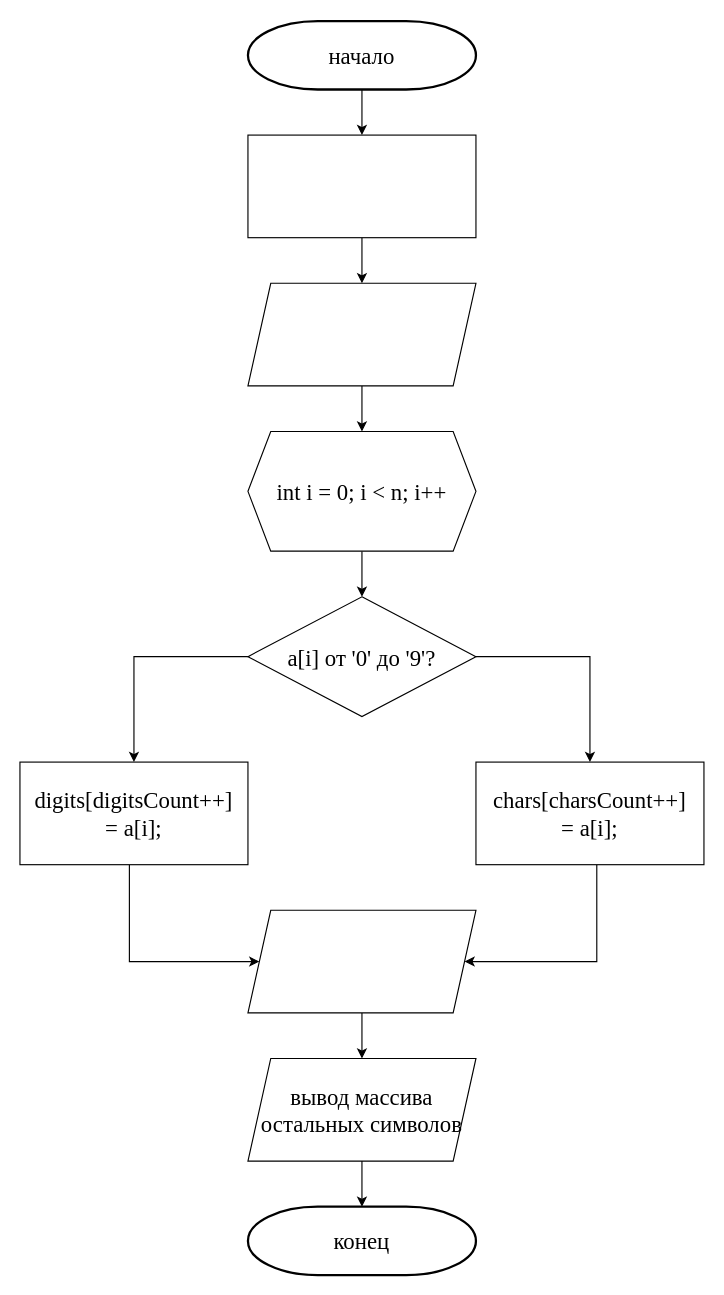
This 724x1295 diagram has some shape labels left out. The shapes that lost their labels are listed below. From the top down, each one's centre as x and y in pixels, then its label:
At (361,186): "rmx=122, rmn=48, digitsCount=0, othersCount=0".
At (361,334): "ввод размера массива (n)".
At (361,961): "вывод массива цифр".
